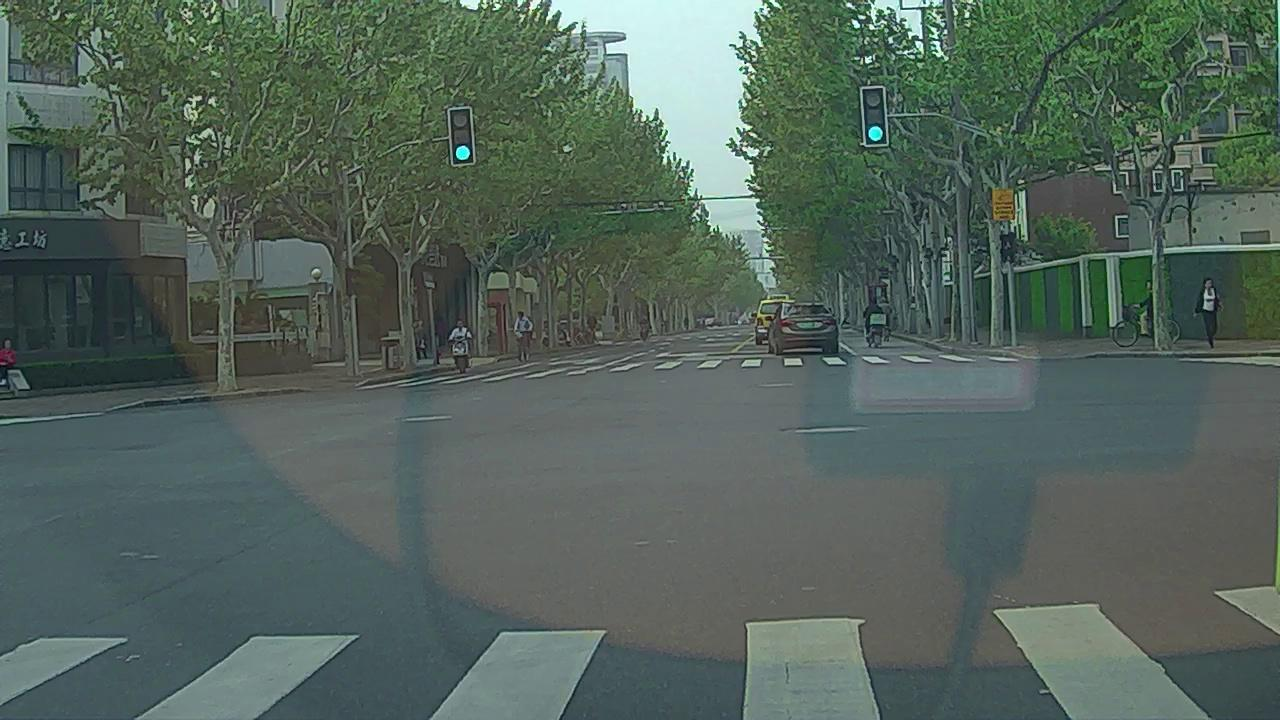traffic_light: (863, 88, 886, 145), (450, 109, 473, 164)
